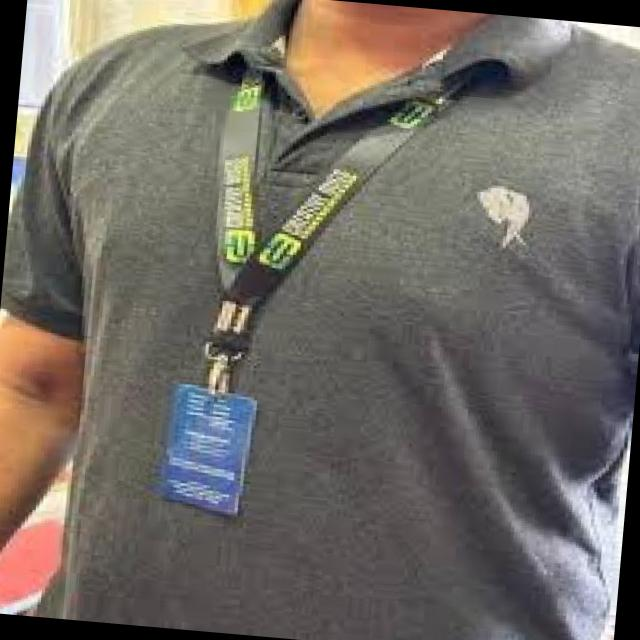id_card: (146, 33, 424, 550)
